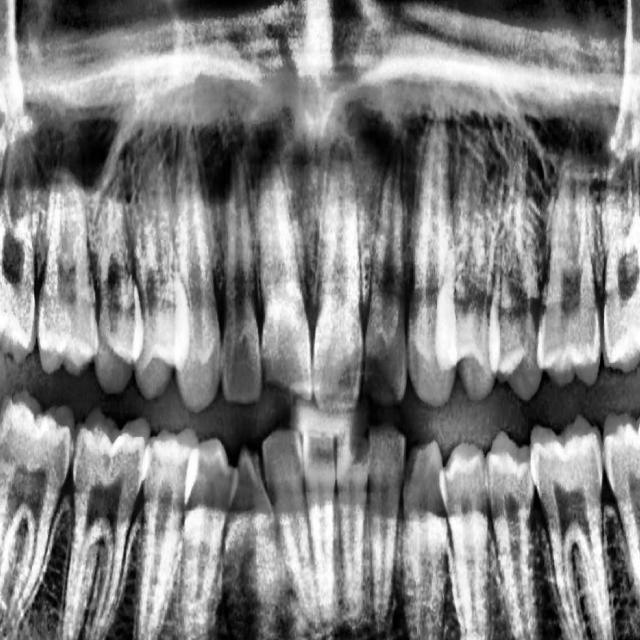Impacted Tooth: (0, 393, 12, 596)
